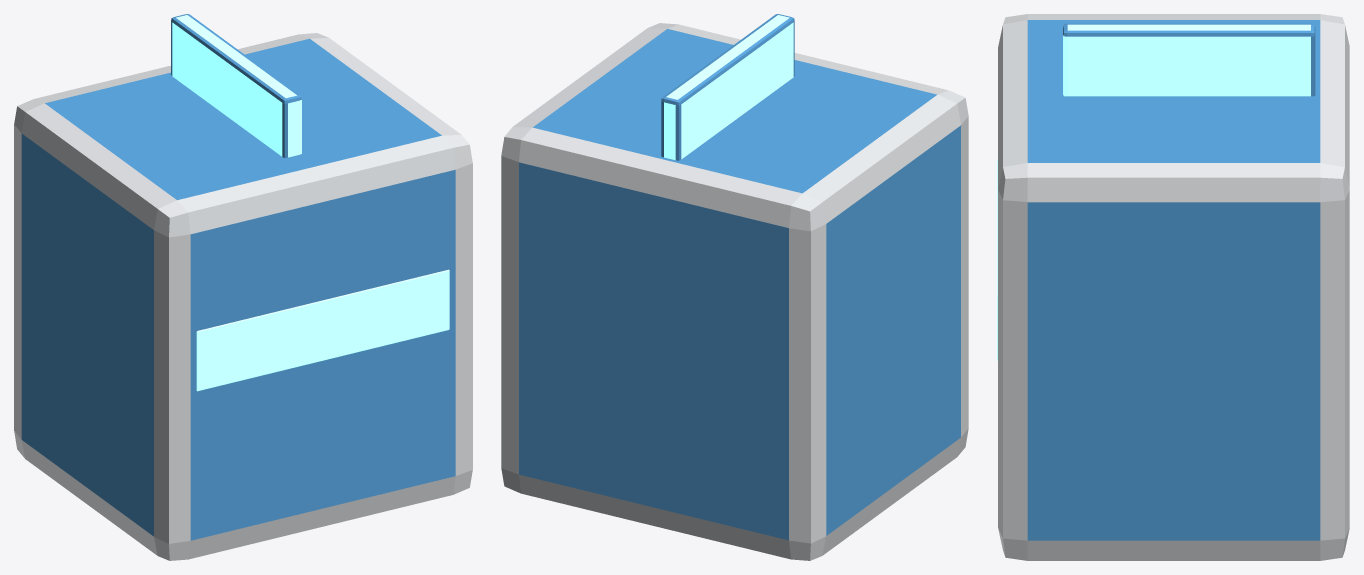
The model's file is helmet__crest_guardian.glb.
3 views of the same model, side by side, from view 1: azimuth 30°, elevation 25°; view 2: azimuth 150°, elevation 25°; view 3: azimuth 270°, elevation 25° (orthographic). The views are drawn at different scales.
Parts seen in each view (by area): view 1: armor_armor_helmet__crest_guardian_v001_v001; view 2: armor_armor_helmet__crest_guardian_v001_v001; view 3: armor_armor_helmet__crest_guardian_v001_v001.
Boxes of the visible parts, left/top/right/bottom form: armor_armor_helmet__crest_guardian_v001_v001: left=14, top=14, right=472, bottom=560; armor_armor_helmet__crest_guardian_v001_v001: left=501, top=14, right=968, bottom=560; armor_armor_helmet__crest_guardian_v001_v001: left=997, top=14, right=1349, bottom=560.
Bounding box in the file's own units: 0.2685 × 0.3468 × 0.2384.
